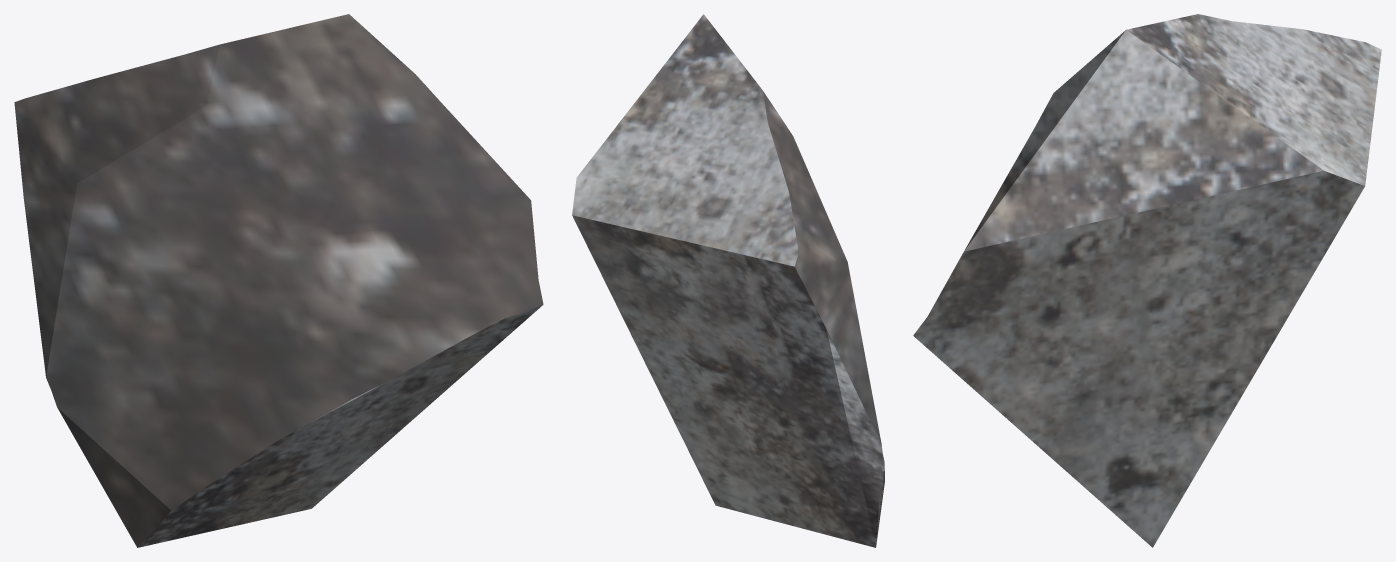
Rendered from Asteroid_Large_001_02_009_03_017.fbx.
3 renders of one model, left to right at view 1: azimuth 30°, elevation 25°; view 2: azimuth 150°, elevation 25°; view 3: azimuth 270°, elevation 25°, orthographic. The views are drawn at different scales.
Parts seen in each view (by area): view 1: Asteroid_Large_001_02_009_03_017; view 2: Asteroid_Large_001_02_009_03_017; view 3: Asteroid_Large_001_02_009_03_017.
Part boxes in pixels (x1,y1,x2,y2): Asteroid_Large_001_02_009_03_017: (14, 14, 543, 547); Asteroid_Large_001_02_009_03_017: (572, 14, 884, 547); Asteroid_Large_001_02_009_03_017: (913, 14, 1381, 547).
Size of the model in its own units: 5.45 by 7.4 by 5.92.
